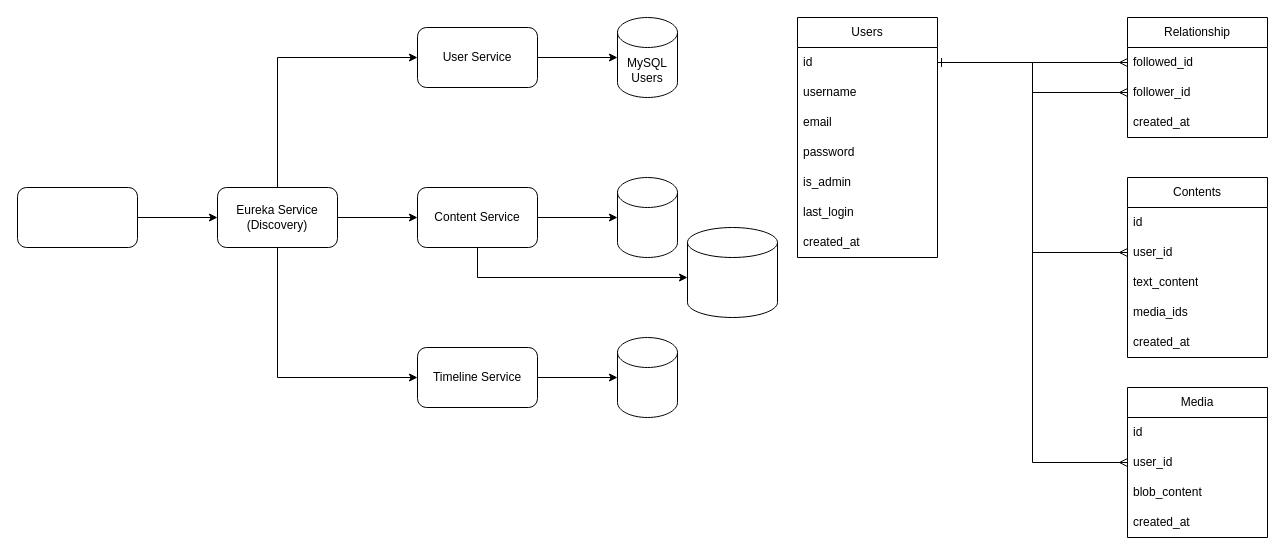
Image size: 1285x555. Some labels were removed from this diagram. The shapes that lost their labels are listed below. From the top down, each one's centre as x and y in pixels, then its label:
pixel 77 217: Gateway Services
pixel 647 217: MySQL Contents
pixel 732 272: DynamoDB Media
pixel 647 377: Timeline
